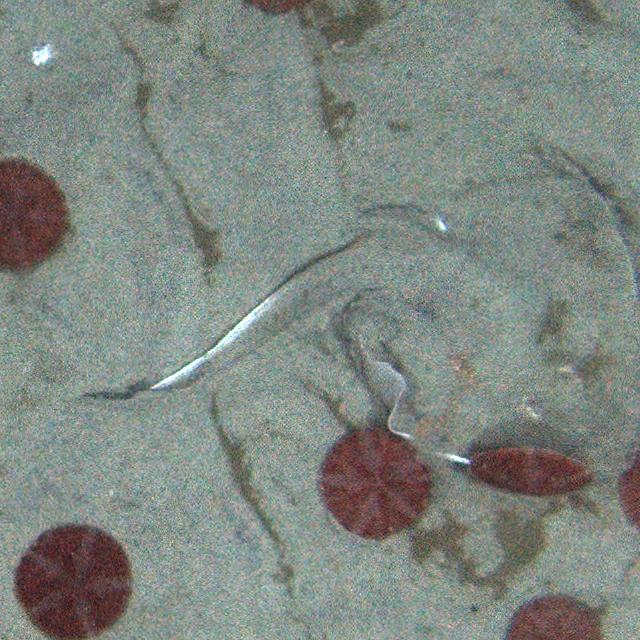skate: (106, 163, 640, 483)
